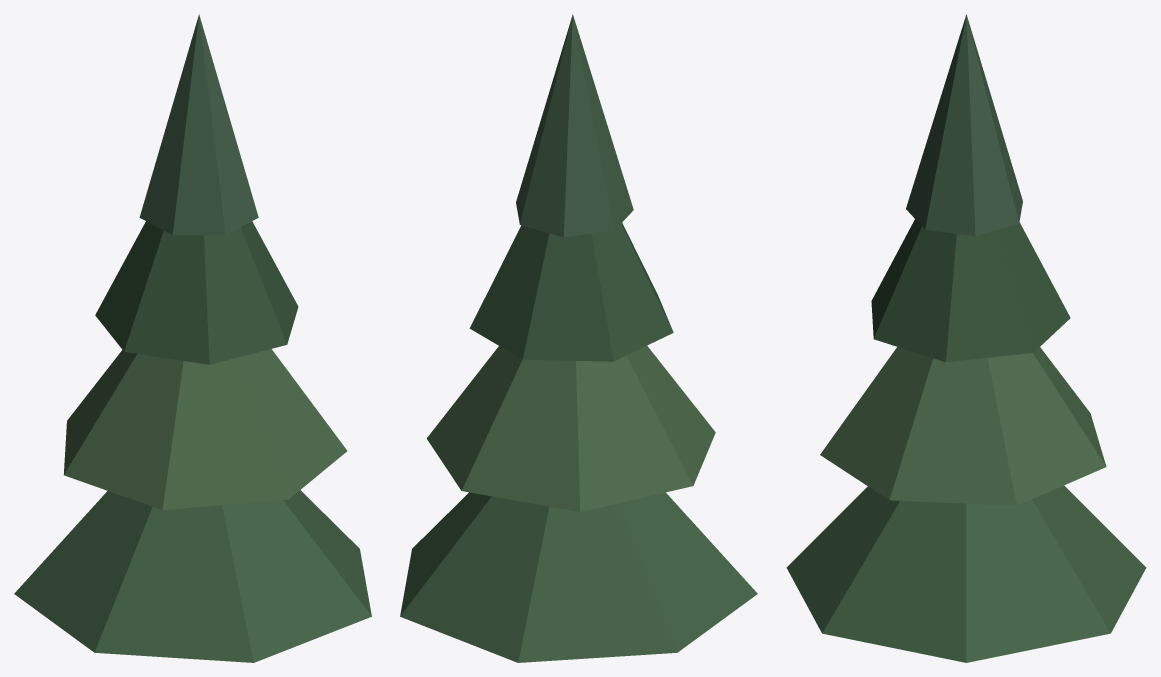
The model's file is tree_spruce.glb.
3 renders of one model, left to right at view 1: azimuth 30°, elevation 25°; view 2: azimuth 150°, elevation 25°; view 3: azimuth 270°, elevation 25°, orthographic.
Parts seen in each view (by area): view 1: tree_spruce_Crown; view 2: tree_spruce_Crown; view 3: tree_spruce_Crown.
Boxes of the visible parts, x1,y1,x2,y2 form: tree_spruce_Crown: (14, 14, 371, 662); tree_spruce_Crown: (400, 14, 757, 662); tree_spruce_Crown: (786, 14, 1146, 662).
Bounding box in the file's own units: 1.62 × 3.2 × 1.66.
